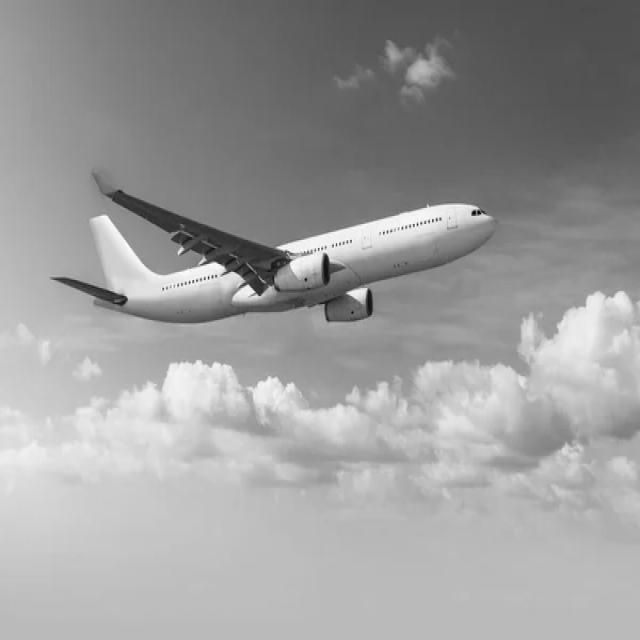Aircraft: (49, 154, 500, 341)
